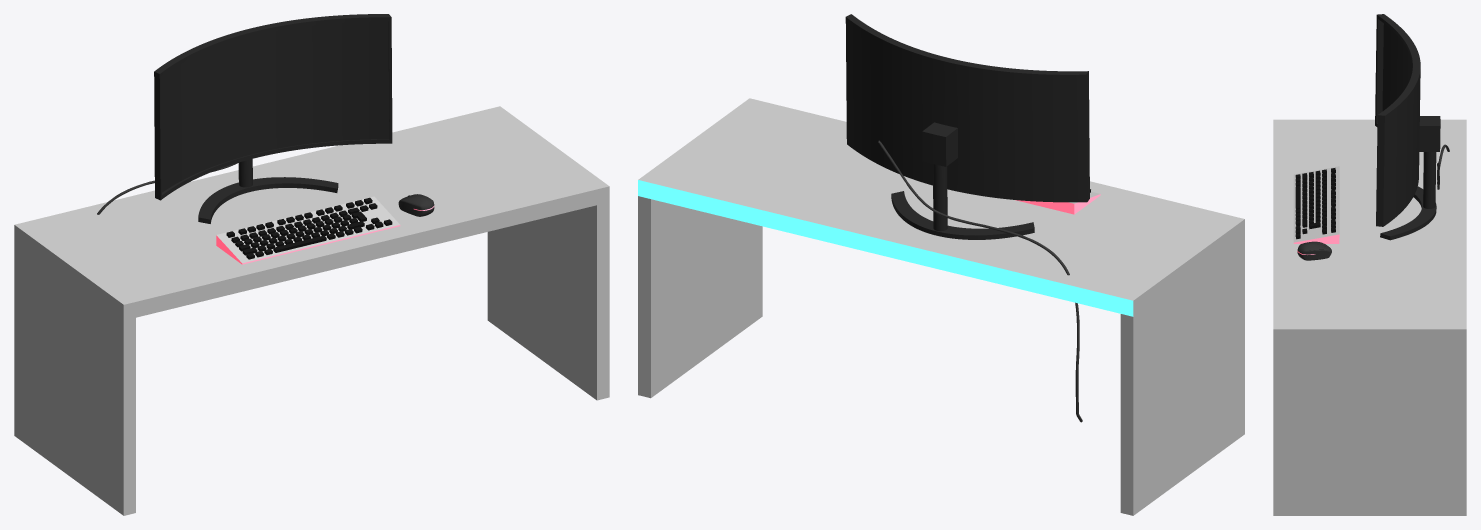
Rendered from gaming_room_desktop_setup.glb.
3 renders of one model, left to right at view 1: azimuth 30°, elevation 25°; view 2: azimuth 150°, elevation 25°; view 3: azimuth 270°, elevation 25°, orthographic. The views are drawn at different scales.
Parts seen in each view (by area): view 1: MEJA, MONITOR, KEYBOARD, Plane; view 2: MEJA, MONITOR, KABEL; view 3: MEJA, MONITOR, KEYBOARD, Plane, MOUSE.
Boxes of the visible parts, x1=… form: MEJA: x1=14, y1=106, x2=609, y2=515; MONITOR: x1=154, y1=14, x2=392, y2=223; KEYBOARD: x1=226, y1=197, x2=392, y2=259; Plane: x1=216, y1=196, x2=400, y2=264; MEJA: x1=638, y1=98, x2=1244, y2=515; MONITOR: x1=845, y1=14, x2=1089, y2=239; KABEL: x1=878, y1=140, x2=1082, y2=422; MEJA: x1=1273, y1=119, x2=1466, y2=515; MONITOR: x1=1375, y1=14, x2=1440, y2=240; KEYBOARD: x1=1295, y1=168, x2=1335, y2=239; Plane: x1=1293, y1=166, x2=1339, y2=243; MOUSE: x1=1297, y1=241, x2=1331, y2=260.
Bounding box in the file's own units: 2.25 × 1.67 × 0.8798.
